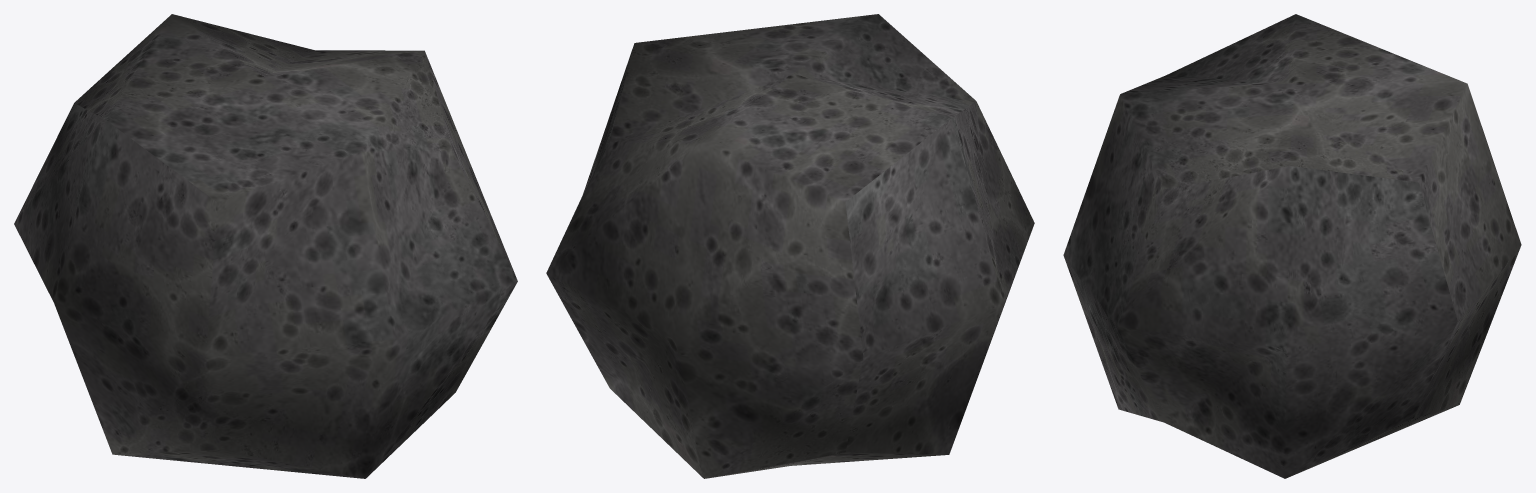
The model's file is Asteroide_1_Anim.fbx.
3 views of the same model, side by side, from view 1: azimuth 30°, elevation 25°; view 2: azimuth 150°, elevation 25°; view 3: azimuth 270°, elevation 25° (orthographic). The views are drawn at different scales.
Parts seen in each view (by area): view 1: Asteroide_1; view 2: Asteroide_1; view 3: Asteroide_1.
Part boxes in pixels (left/top/right/bottom): Asteroide_1: left=14, top=14, right=517, bottom=478; Asteroide_1: left=546, top=14, right=1034, bottom=478; Asteroide_1: left=1063, top=14, right=1521, bottom=478.
Bounding box in the file's own units: 10.36 × 9.17 × 10.21.
Materials: 1 (1 with a texture image).
